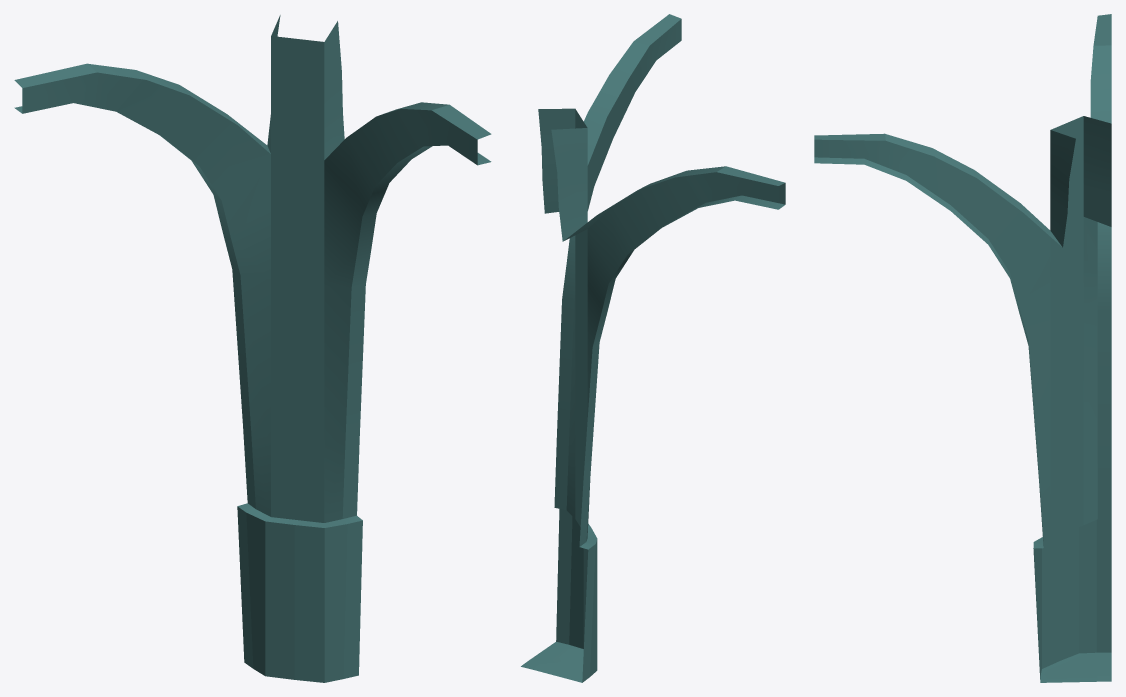
The model's file is Arch_Corner.fbx.
3 renders of one model, left to right at view 1: azimuth 30°, elevation 25°; view 2: azimuth 150°, elevation 25°; view 3: azimuth 270°, elevation 25°, orthographic. The views are drawn at different scales.
Parts seen in each view (by area): view 1: Arch_Corner; view 2: Arch_Corner; view 3: Arch_Corner.
Boxes of the visible parts, <box> form: Arch_Corner: <box>14,15,491,682</box>; Arch_Corner: <box>521,14,785,682</box>; Arch_Corner: <box>814,14,1111,682</box>.
Bounding box in the file's own units: 200 × 404 × 200.
